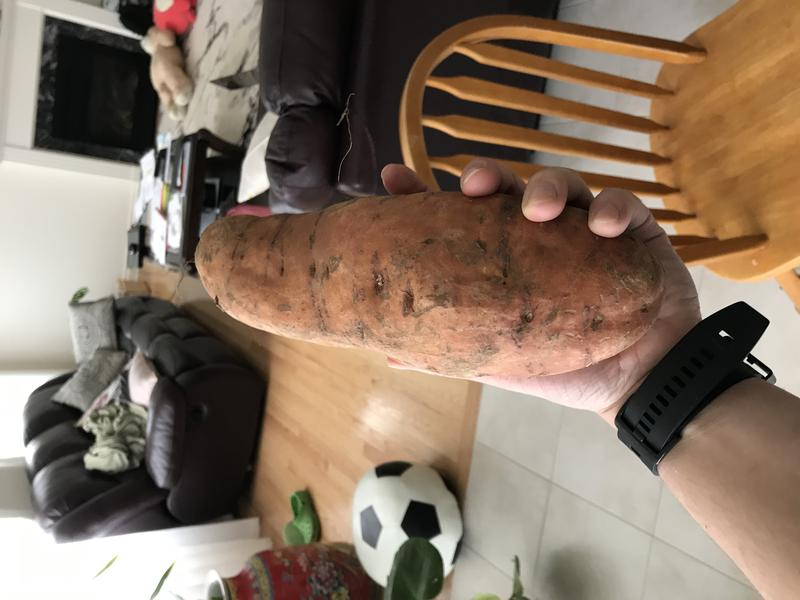sweet_potato: (176, 173, 680, 391)
